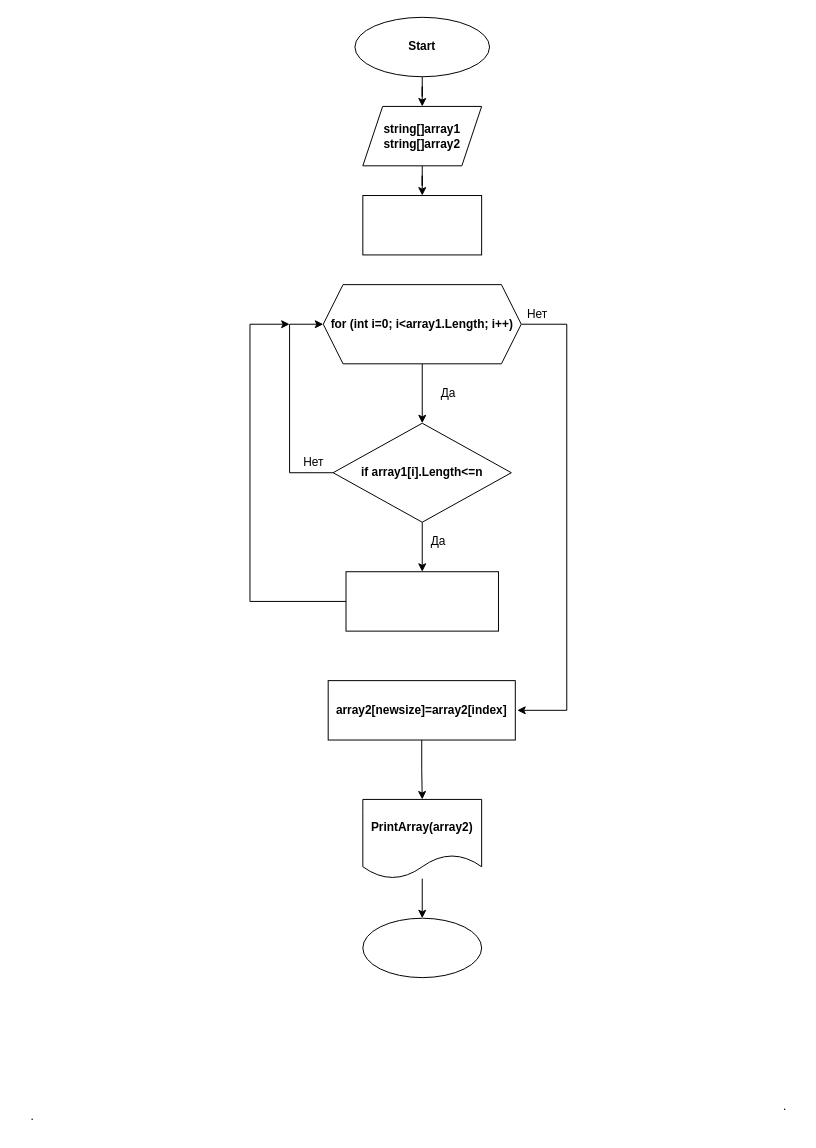
The diagram is 816 pixels wide and 1148 high, and some of its shapes have lost their labels. The shapes that lost their labels are listed below. From the top down, each one's centre as x and y in pixels, then its label:
At point (422, 225): "int n=3 int index=0".
At point (421, 601): "array2[index]=array1[i] index++".
At point (422, 947): "End".
